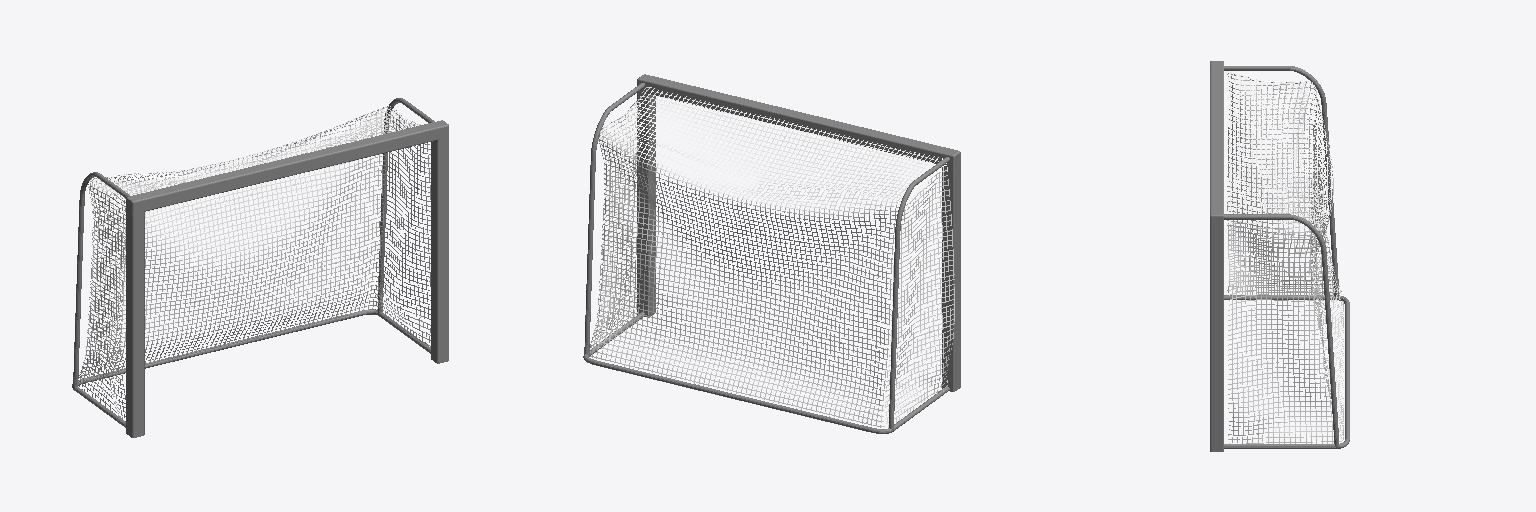
3 views of the same model, side by side, from view 1: azimuth 30°, elevation 25°; view 2: azimuth 150°, elevation 25°; view 3: azimuth 270°, elevation 25° (orthographic).
Parts seen in each view (by area): view 1: Net_001_Plane_003, Pole_Cube_001, pole_001_BezierCurve_001; view 2: Net_001_Plane_003, Pole_Cube_001, pole_001_BezierCurve_001; view 3: Net_001_Plane_003, Pole_Cube_001, pole_001_BezierCurve_001.
Boxes of the visible parts, x1,y1,x2,y2 form: Net_001_Plane_003: [78, 106, 430, 424]; Pole_Cube_001: [126, 120, 448, 437]; pole_001_BezierCurve_001: [72, 98, 434, 427]; Net_001_Plane_003: [588, 87, 954, 427]; Pole_Cube_001: [637, 74, 960, 391]; pole_001_BezierCurve_001: [583, 83, 949, 433]; Net_001_Plane_003: [1225, 71, 1343, 444]; Pole_Cube_001: [1210, 61, 1223, 451]; pole_001_BezierCurve_001: [1224, 66, 1349, 448].
Size of the model in its own units: 2.84 by 2 by 1.07.
Materials: 2 (1 with a texture image).